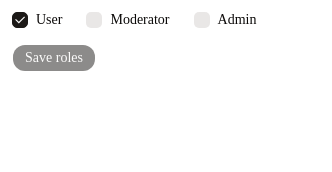
it: RolesForm › saves the picked roles in a stable order
Click the checkbox named "admin" next to "admin" at point(202, 20), box x1=194 y1=12 x2=210 y2=28
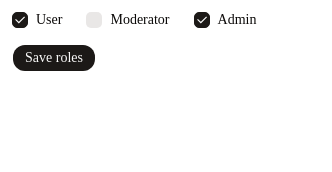
Click the button "Save roles" at point(54, 58), box x1=12 y1=44 x2=96 y2=72
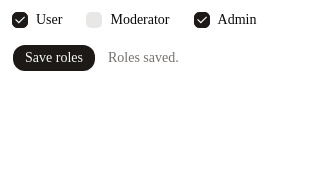
Expected: the message reads "Roles saved.", x1=108 y1=50 x2=179 y2=65
